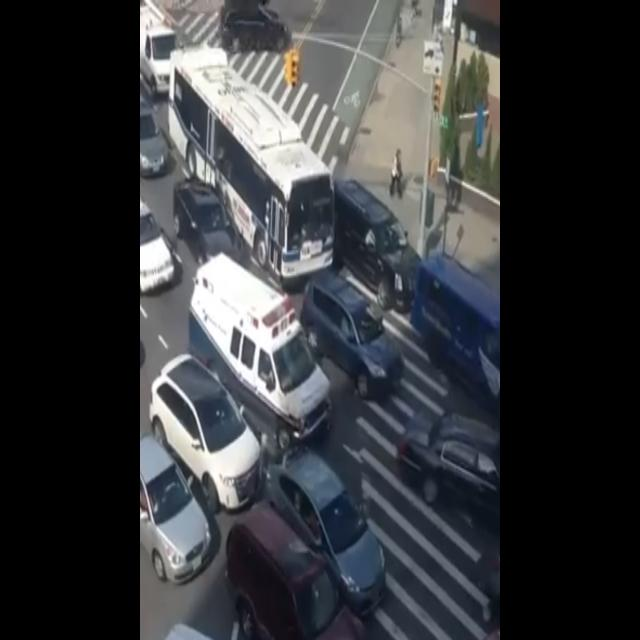Ambulance: (176, 245, 332, 446)
